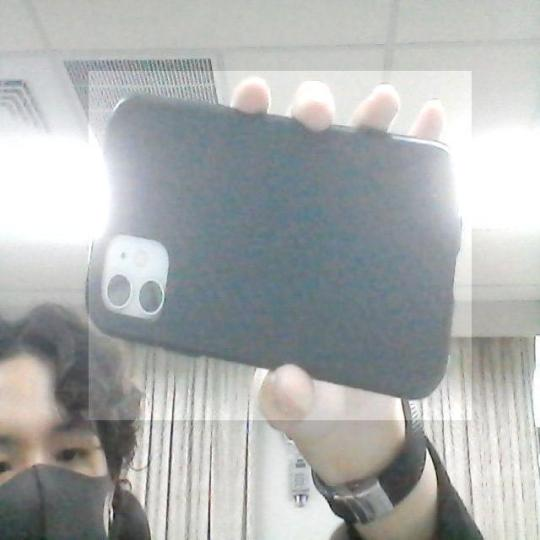phone: (59, 94, 467, 403)
